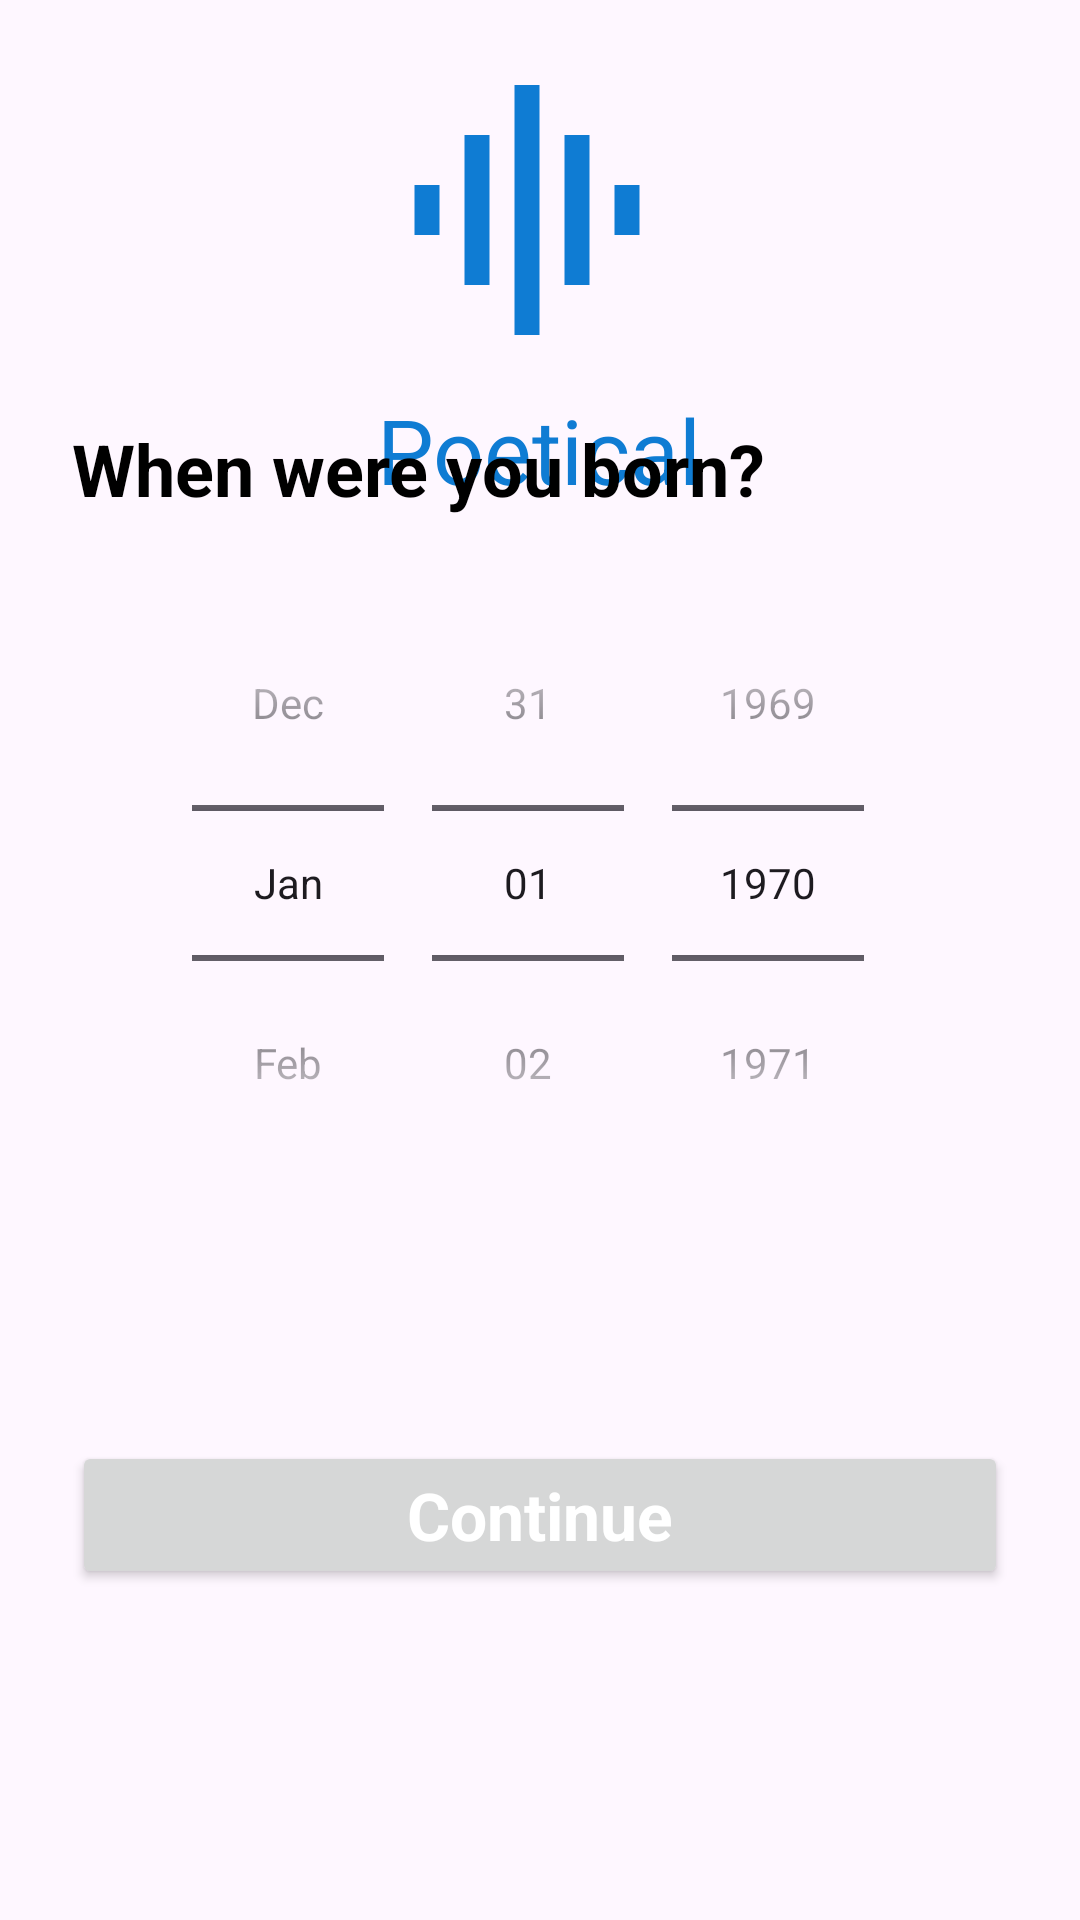

Screen size 1080px x 1920px. Icon name, then its center in pixels as [x,y]:
wave: [527,210]
